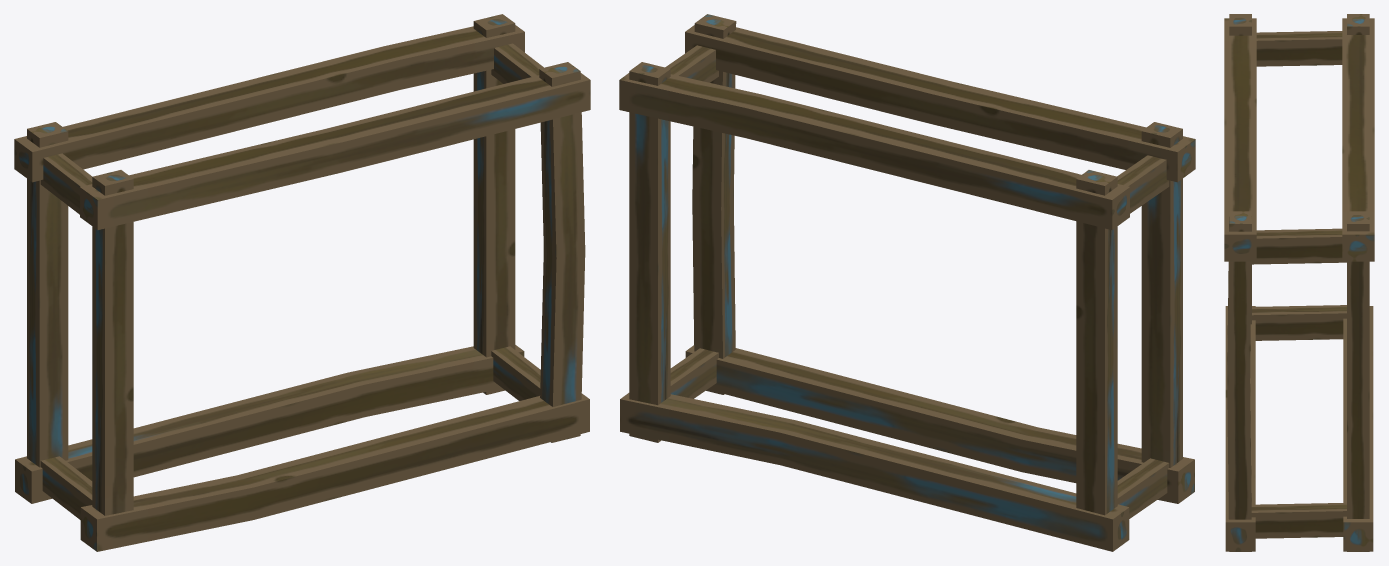
The model's file is P_Rack_A.FBX.
The picture shows the model from 3 angles, left to right: view 1: azimuth 30°, elevation 25°; view 2: azimuth 150°, elevation 25°; view 3: azimuth 270°, elevation 25°; orthographic projection. The views are drawn at different scales.
Parts seen in each view (by area): view 1: P_Rack_A; view 2: P_Rack_A; view 3: P_Rack_A.
Boxes of the visible parts, <box> form: P_Rack_A: <box>14,14,590,551</box>; P_Rack_A: <box>619,14,1195,551</box>; P_Rack_A: <box>1224,14,1374,551</box>.
Bounding box in the file's own units: 135 × 96.09 × 39.43.
1 material, 1 textured.
